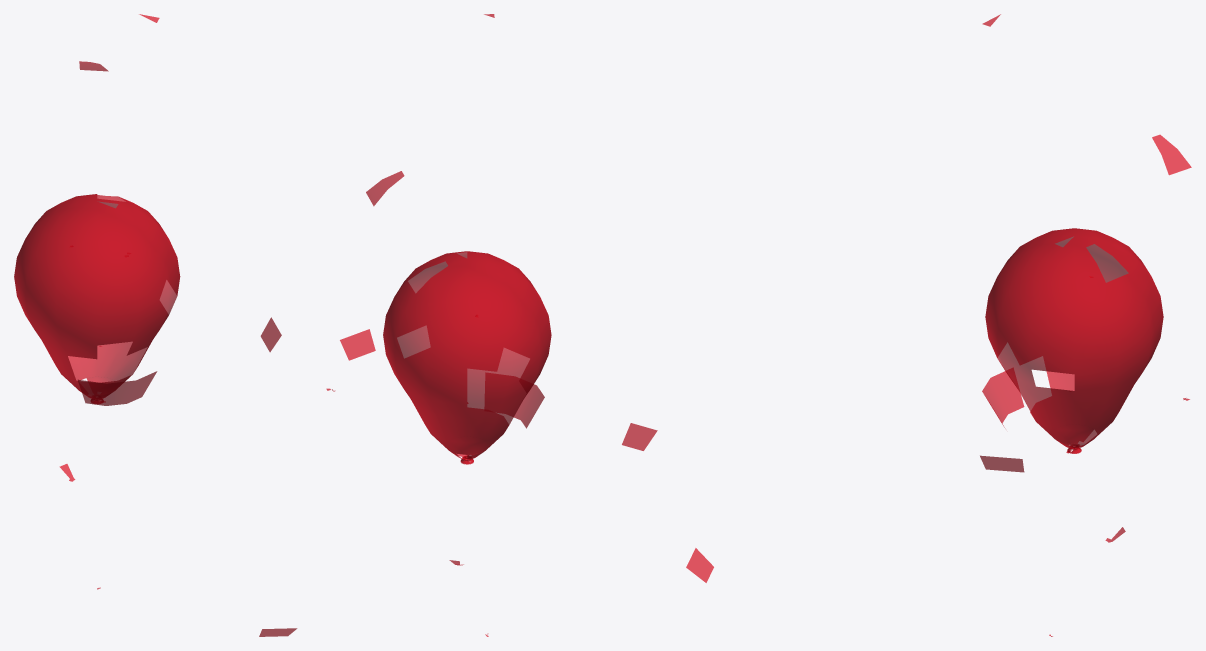
The model's file is annaballoonanimi2.fbx.
3 views of the same model, side by side, from view 1: azimuth 30°, elevation 25°; view 2: azimuth 150°, elevation 25°; view 3: azimuth 270°, elevation 25° (orthographic). The views are drawn at different scales.
Parts seen in each view (by area): view 1: Sphere; view 2: Sphere; view 3: Sphere.
Part boxes in pixels (<box>): Sphere: <box>14,14,297,636</box>; Sphere: <box>326,14,657,636</box>; Sphere: <box>686,14,1191,636</box>.
Bounding box in the file's own units: 3.08 × 7.81 × 5.67.
